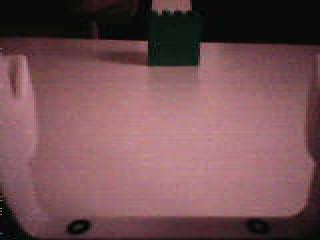legocube: (145, 9, 204, 69)
